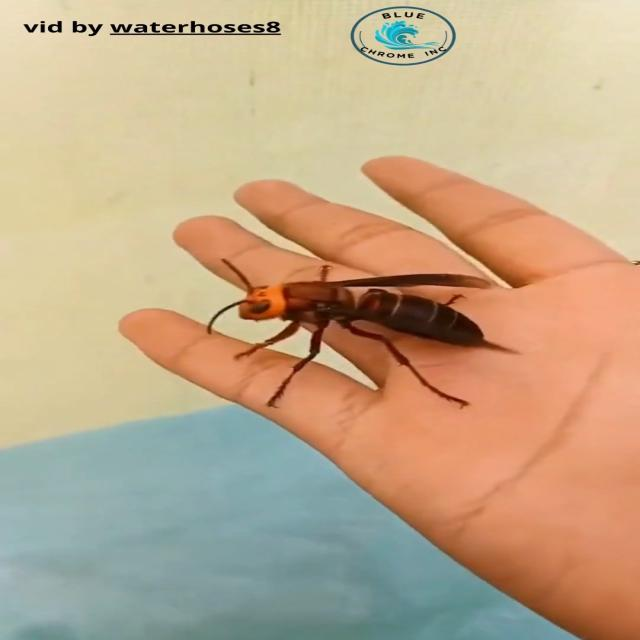Hornets: (204, 257, 520, 408)
